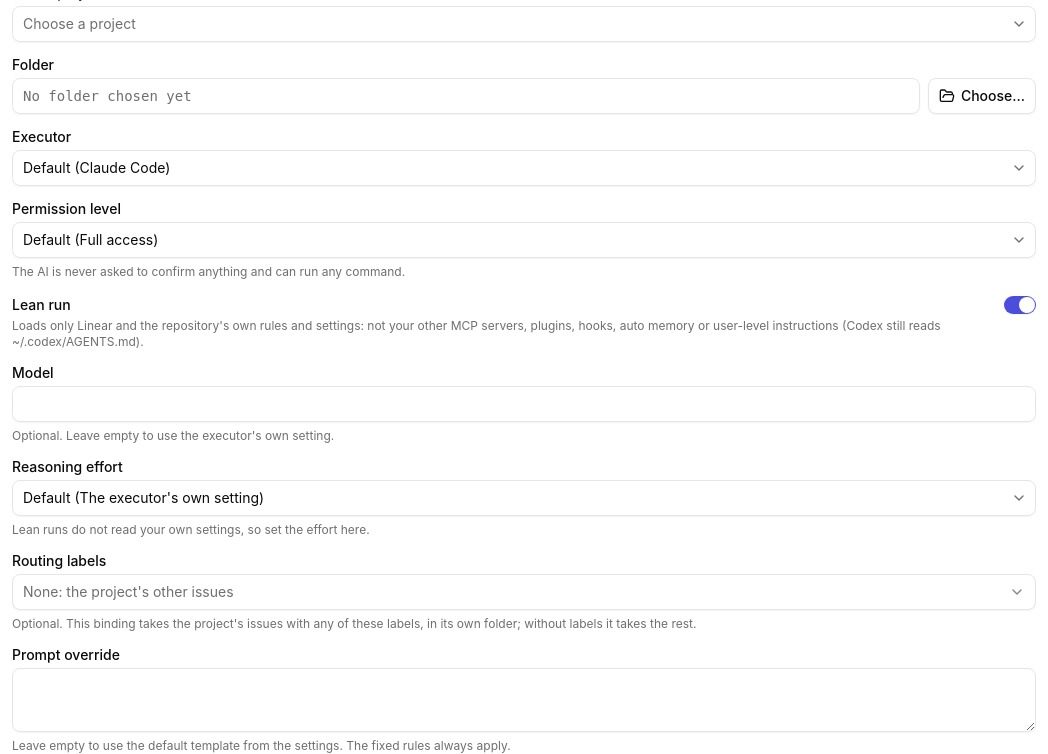
Test: saving waits for a project and a folder (project first)
Expected: the field labelled "Folder" is empty, 12,78 -> 920,114
Click the dropdown named "Linear project".
click(79, 24)  # box 12,6 -> 1036,42
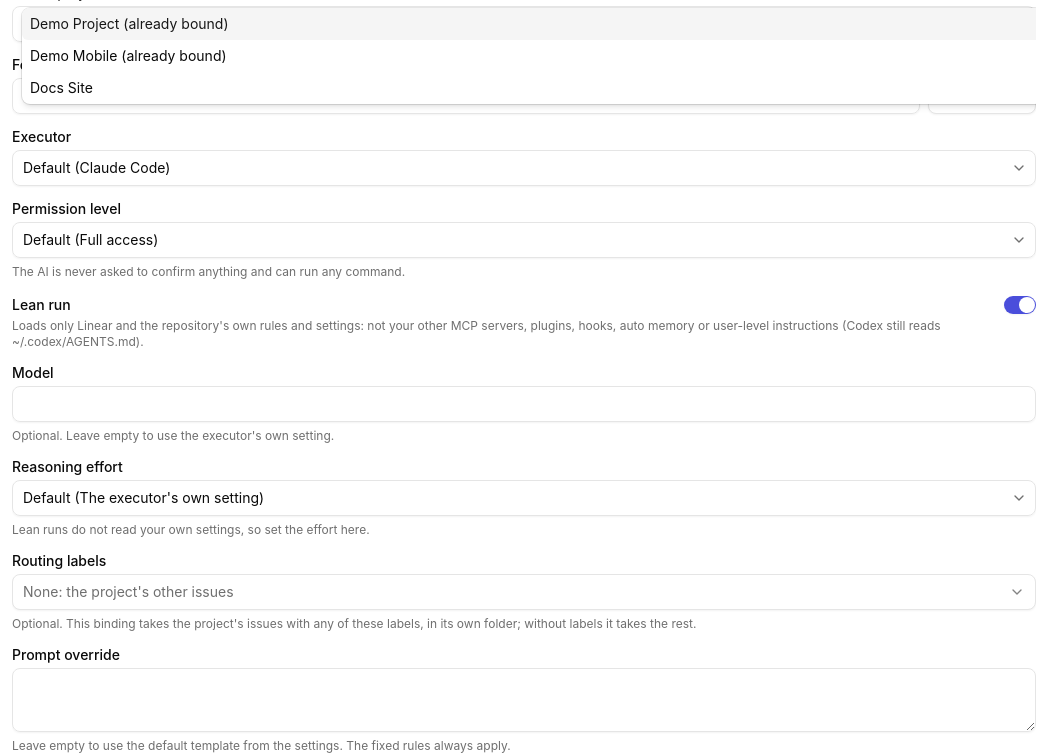
Click the option "Docs Site".
click(61, 88)  # box 30,79 -> 93,96
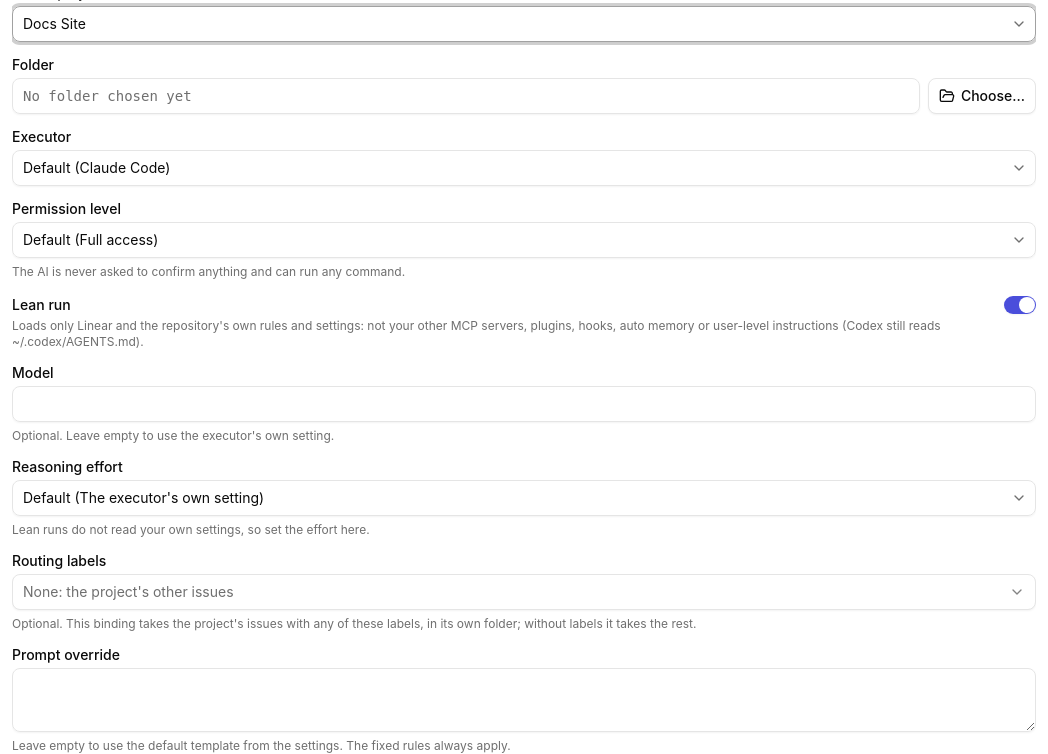
Click the button "Choose…".
click(982, 96)  # box 928,78 -> 1036,114
(page scrolled)
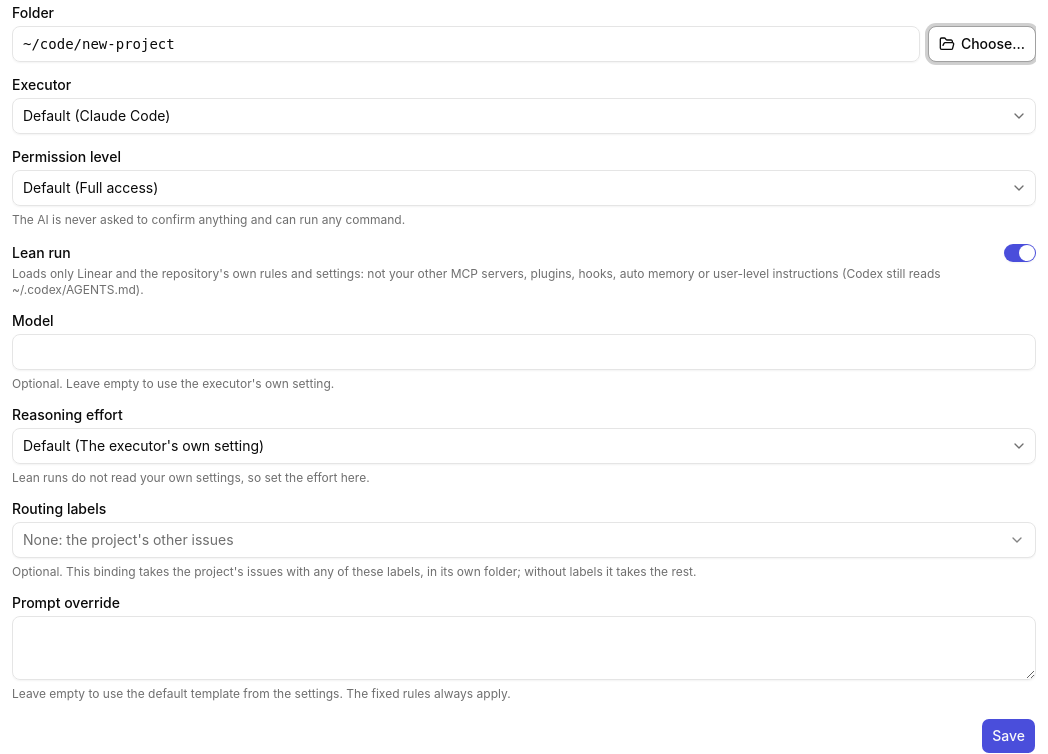
Expected: the field labelled "Folder" holds "~/code/new-project", 12,26 -> 920,62
Expected: the button "Save" is enabled, 981,718 -> 1036,753
